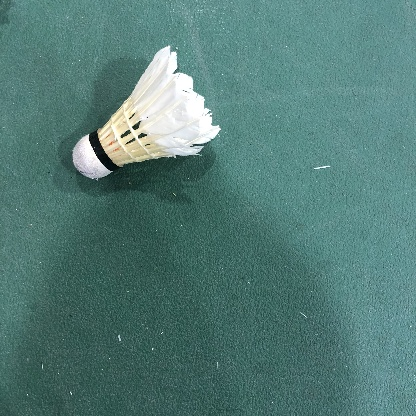ball_single: (73, 45, 221, 178)
